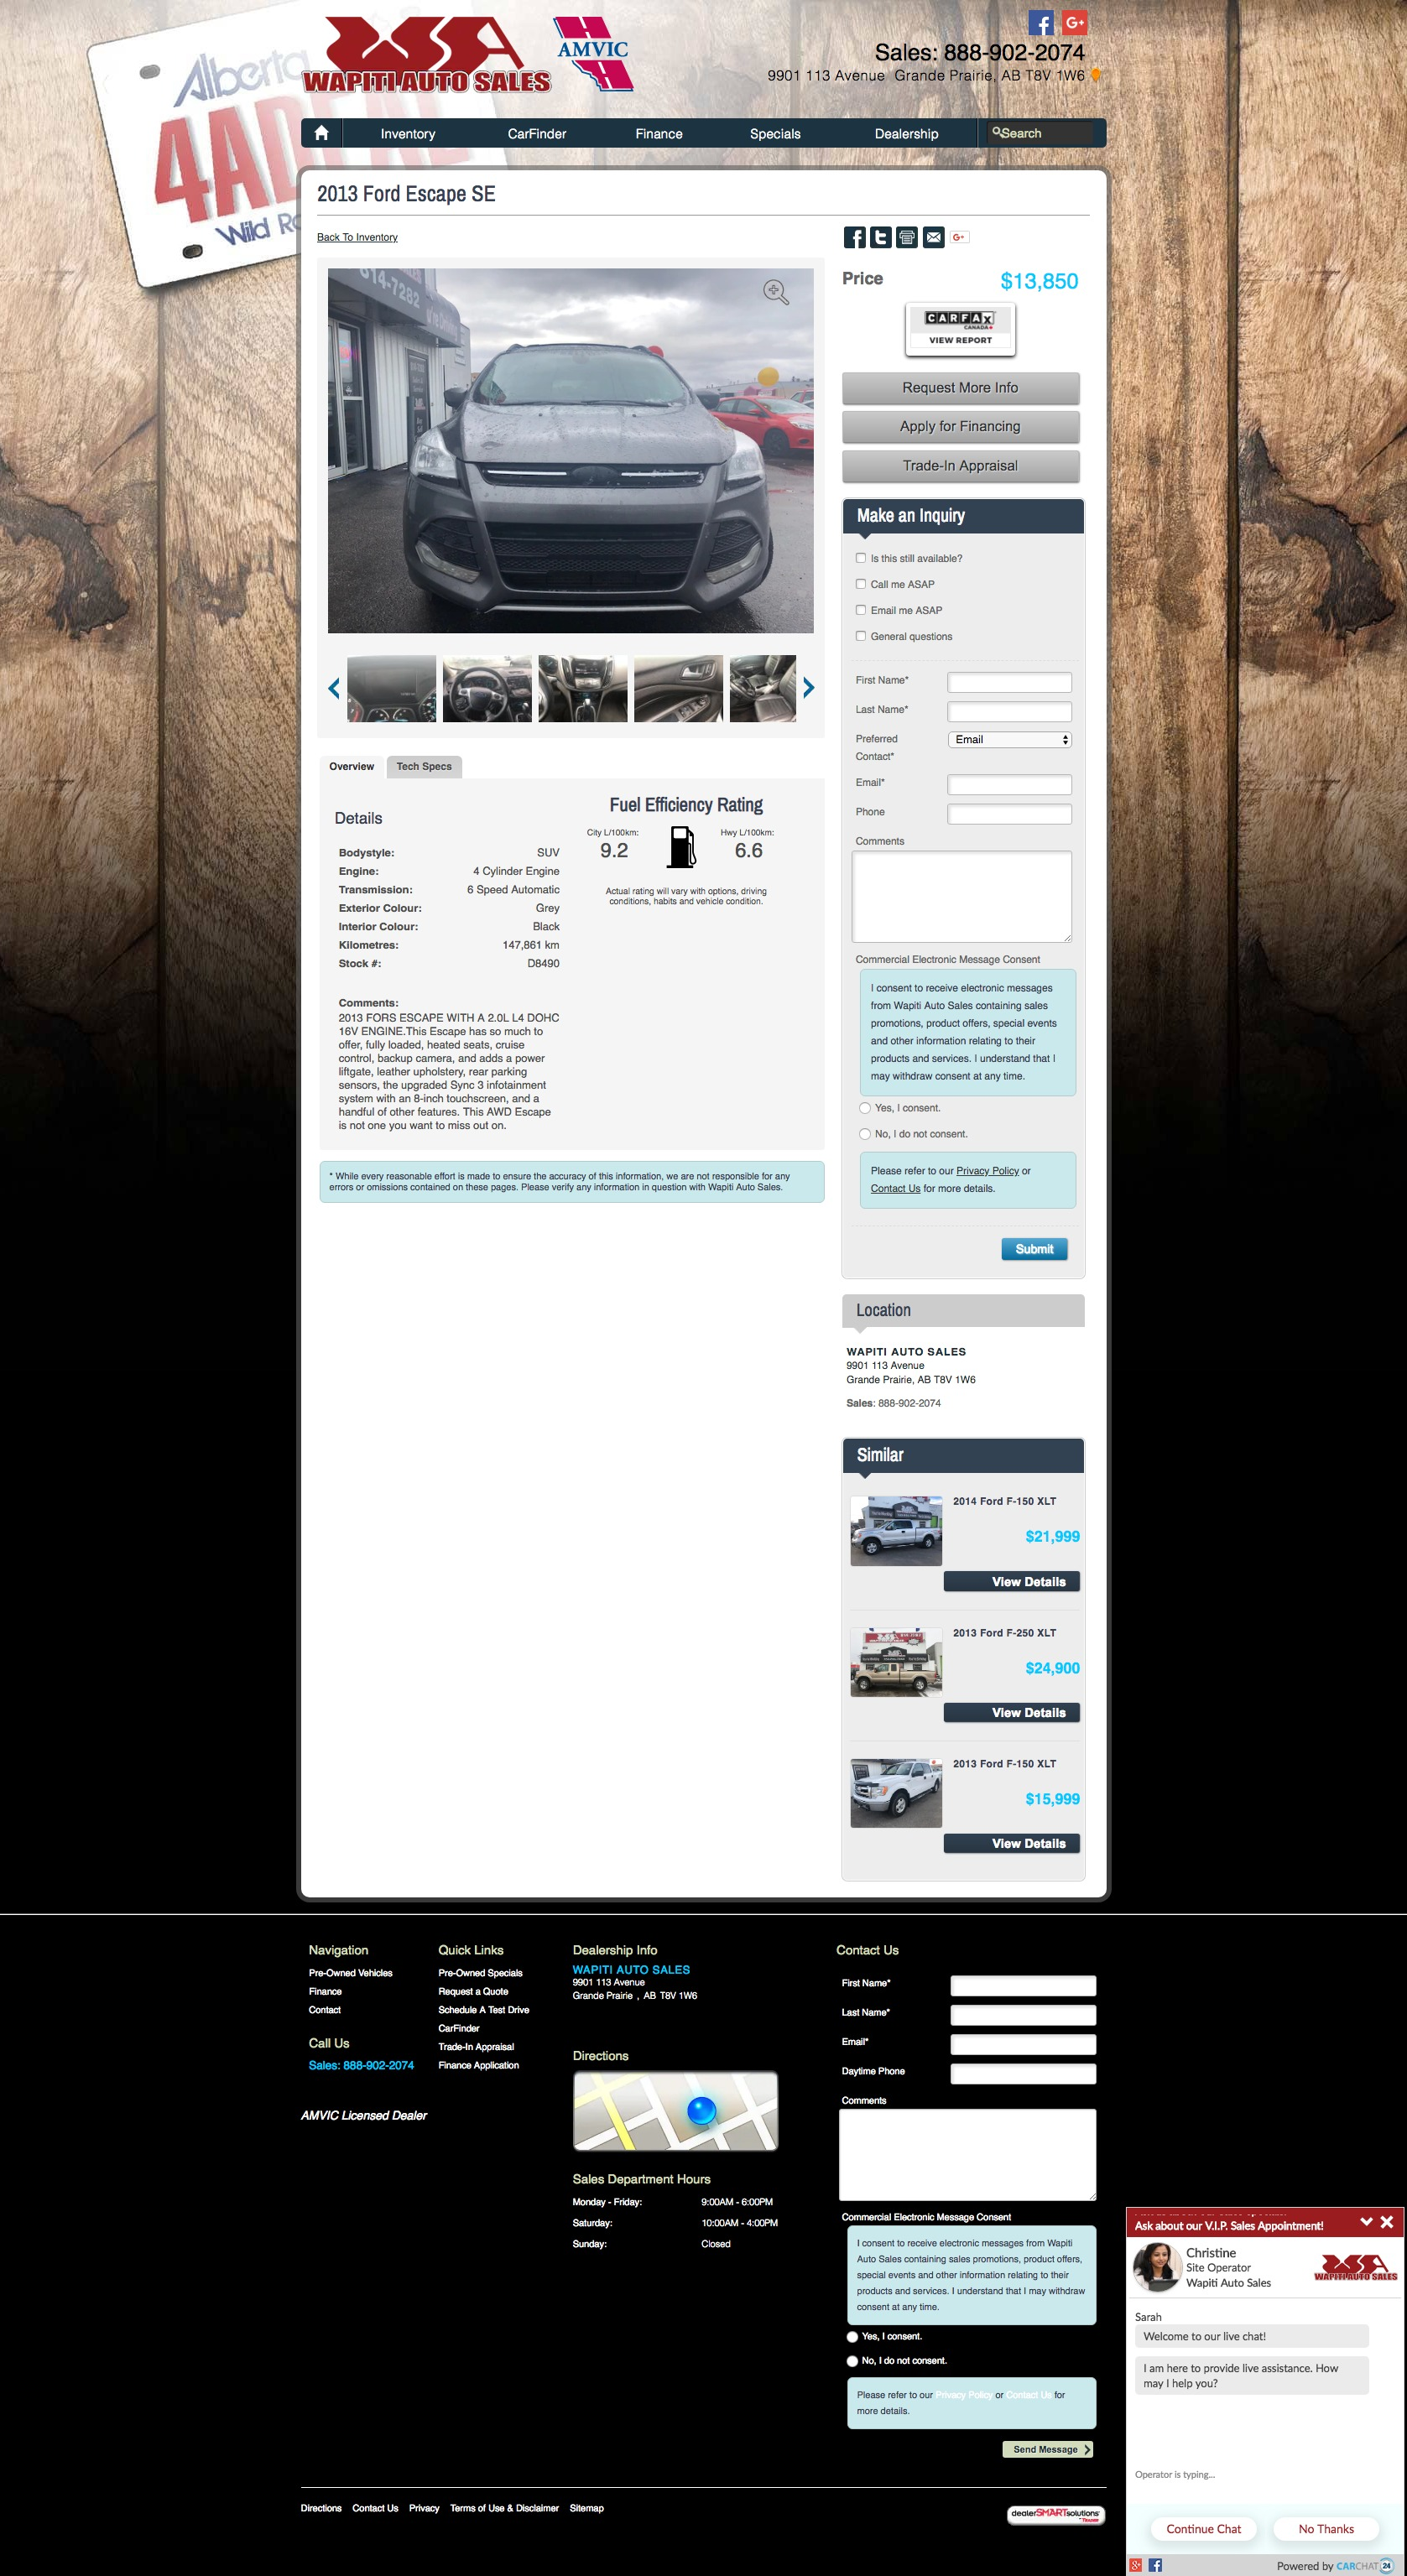car: (804, 677, 814, 700)
